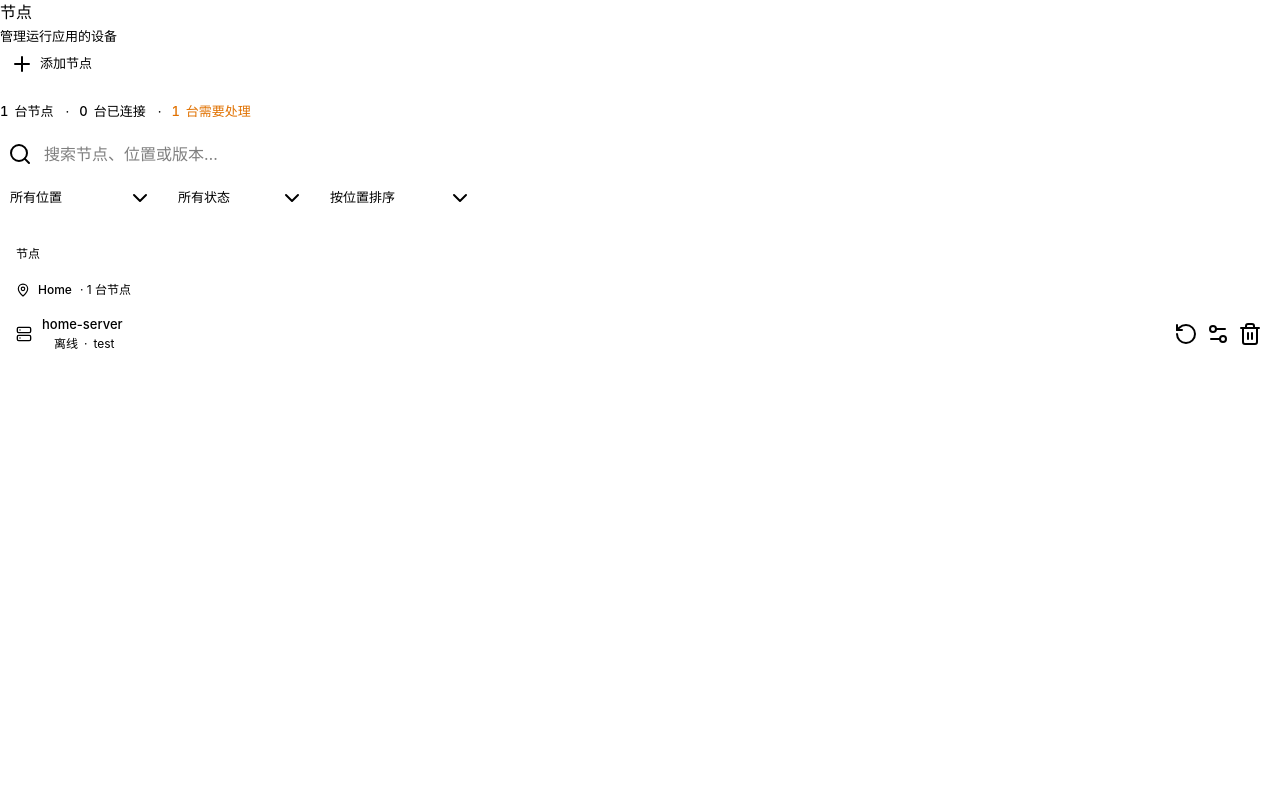
Test: node reinstall review › shows server-reported remaining work without offering premature completion
This screenshot has width=1280, height=800.
Step 1. Click the button named "重新接入 home-server" → (1186, 334), box [1172,320,1200,348]
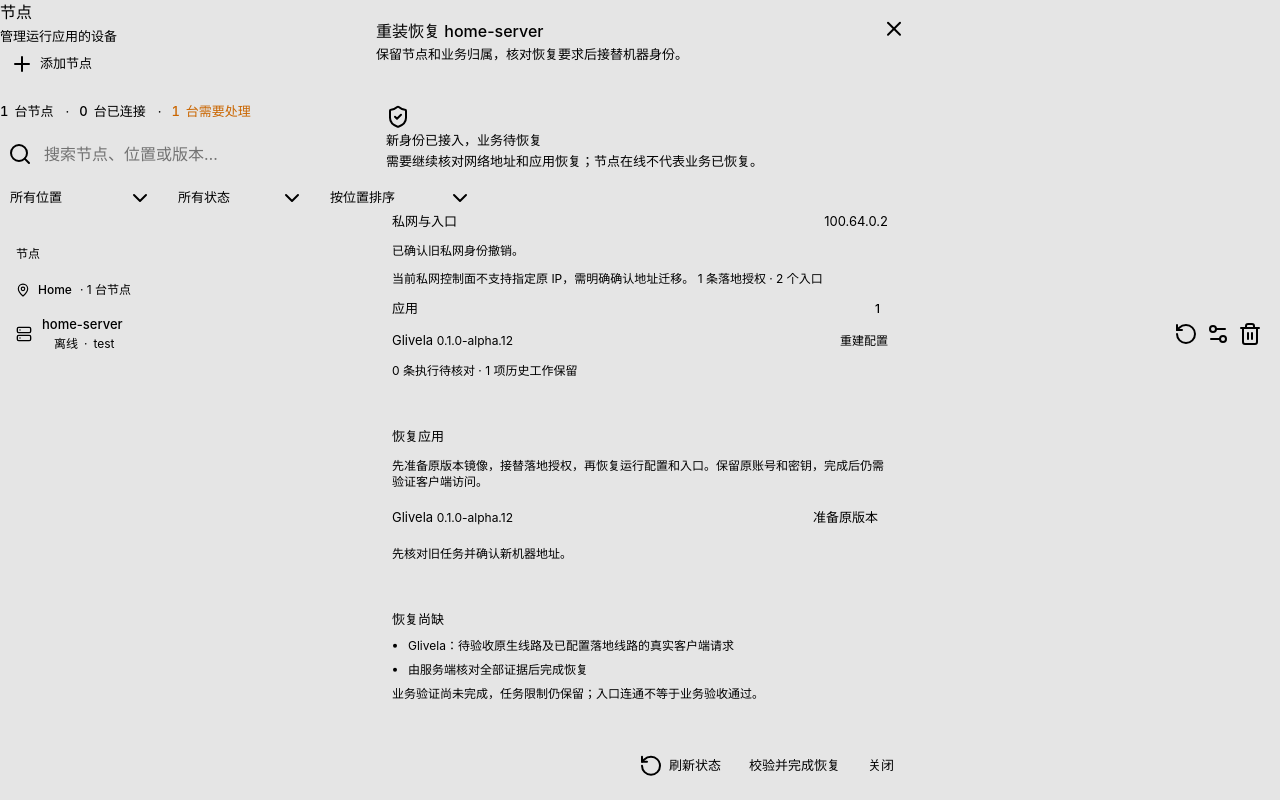
Result: the element named "恢复尚缺" shows "Glivela：待验收原生线路及已配置落地线路的真实客户端请求" at [392,611,764,700]
Result: the element named "恢复尚缺" shows "由服务端核对全部证据后完成恢复" at [408,661,588,676]
